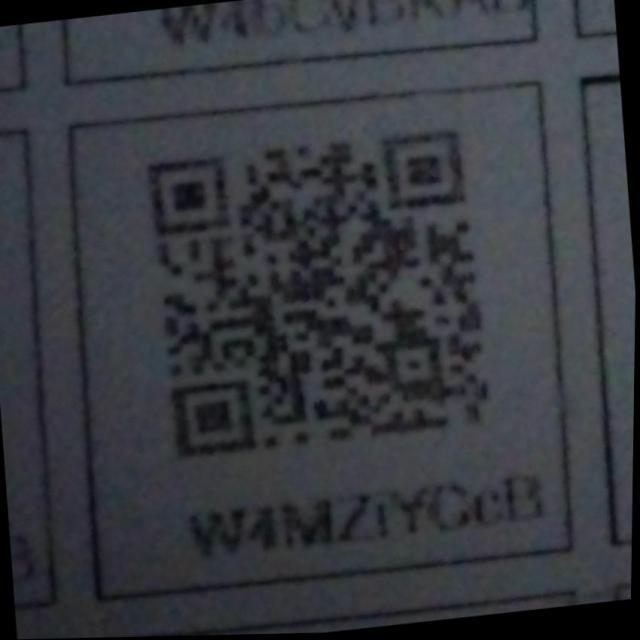QRCode: (134, 107, 523, 479)
